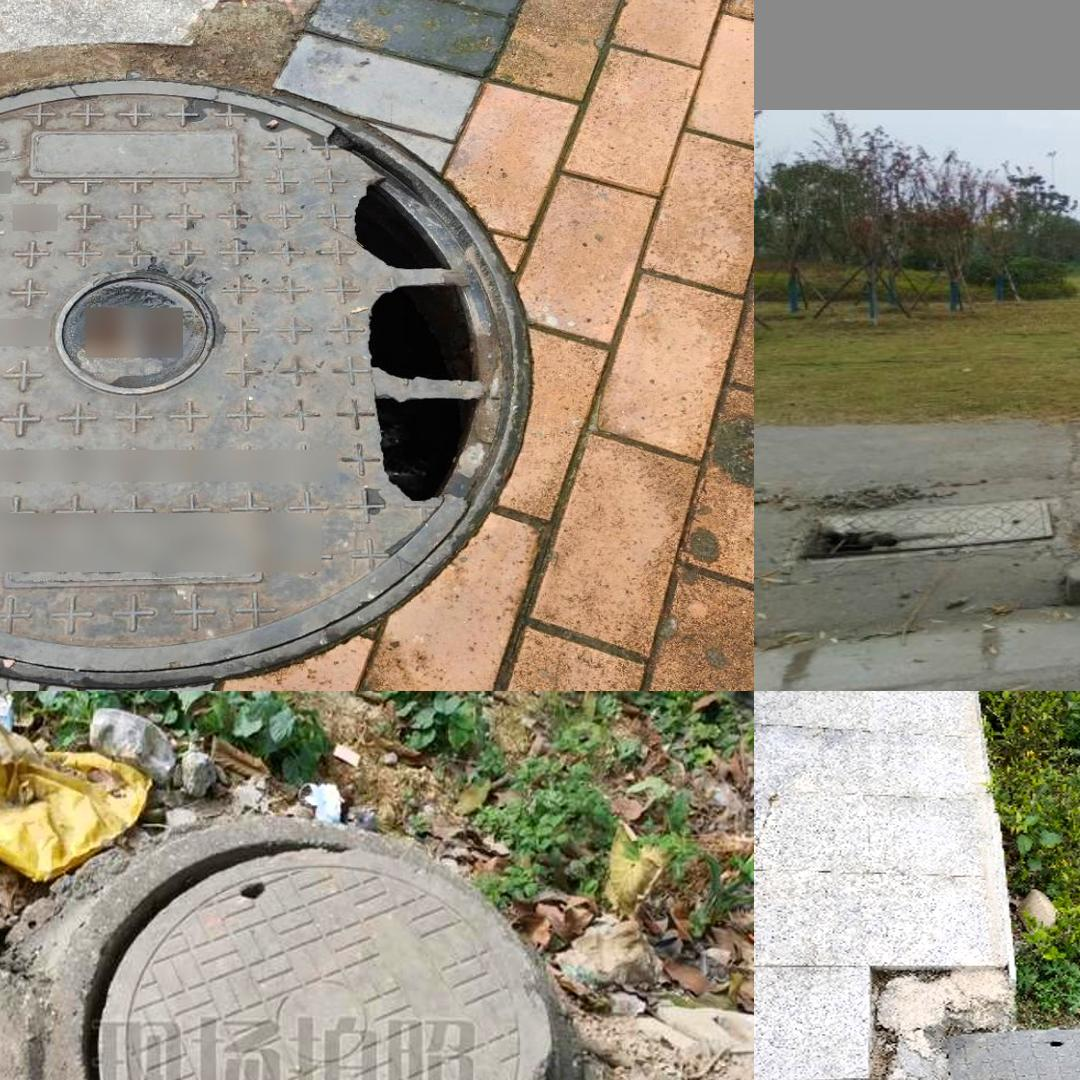broke: (0, 118, 509, 668), (5, 800, 600, 1080), (786, 504, 1059, 549), (937, 1020, 1080, 1080)
